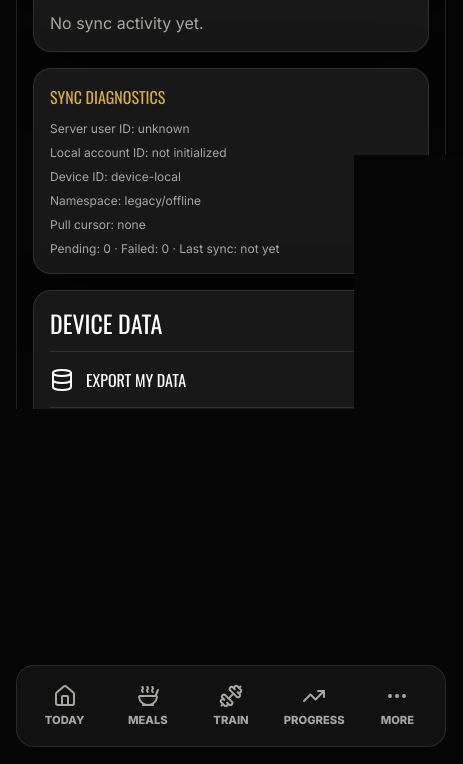
Scenario: Phase 4 auth and sync screens › exports device data and reports export failures safely
(page scrolled)
Step 1. Click the button "Export My Data ›" → (136, 380), box [50,351,412,407]
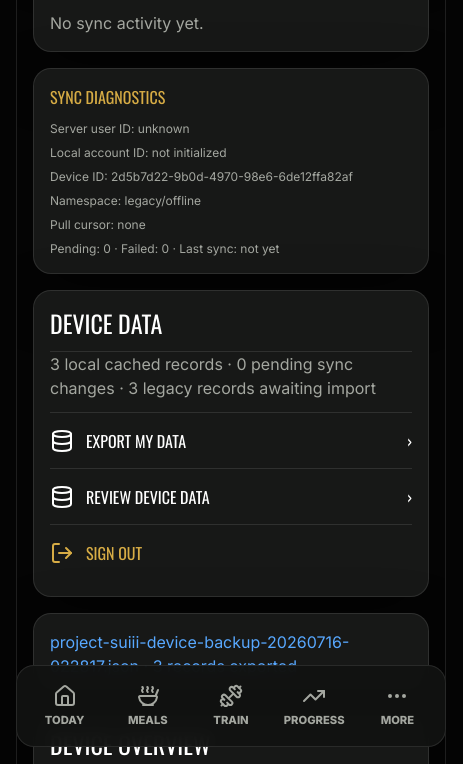
Now the text "project-suiii-device-backup" is shown, box [50,632,349,676]
Step 2. Click the button "Export My Data ›" → (136, 440), box [50,412,412,468]
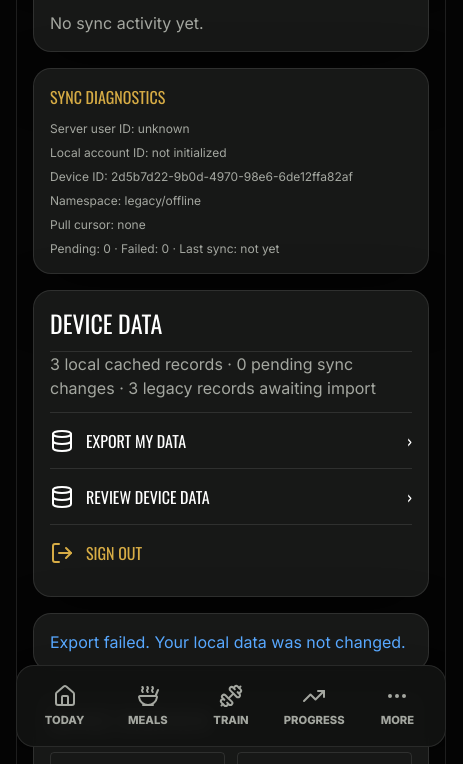
Now the text "Export failed. Your local data was not changed." is shown, box [33,613,429,671]
